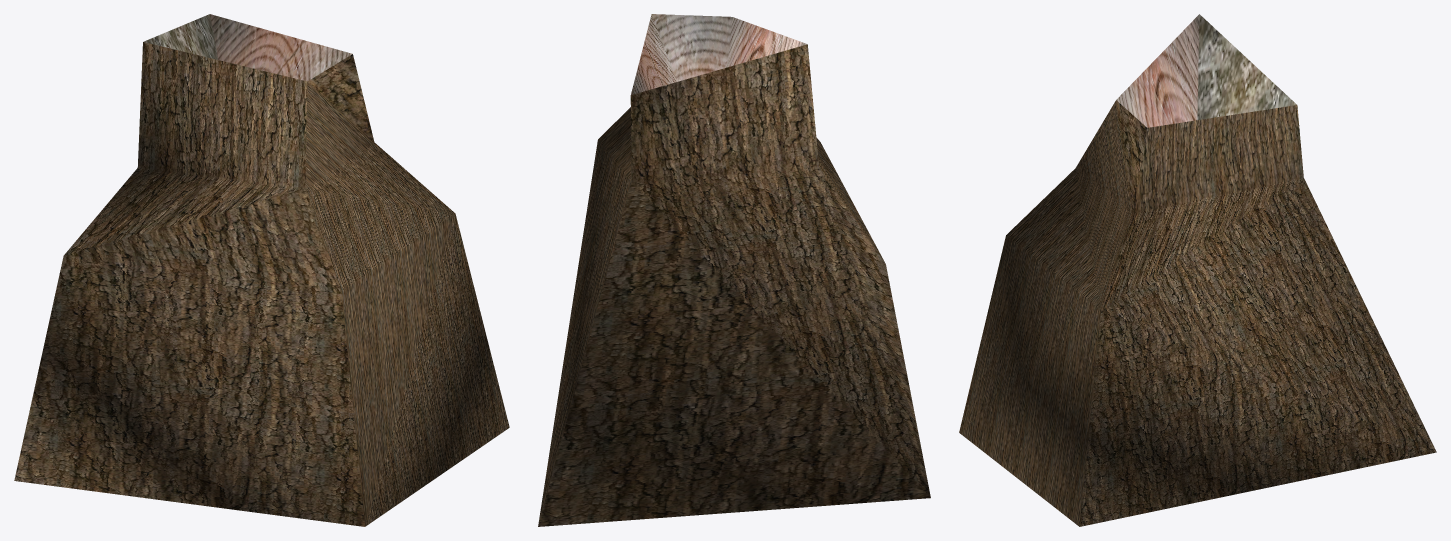
File: decd_oakstump_sm_l3.fbx
The picture shows the model from 3 angles, left to right: view 1: azimuth 30°, elevation 25°; view 2: azimuth 150°, elevation 25°; view 3: azimuth 270°, elevation 25°; orthographic projection. The views are drawn at different scales.
Visible parts, largest first — view 1: mesh_node; view 2: mesh_node; view 3: mesh_node.
Part boxes in pixels (bbox=[...]): mesh_node: bbox=[14, 14, 509, 526]; mesh_node: bbox=[538, 14, 930, 526]; mesh_node: bbox=[959, 14, 1436, 526].
Bounding box in the file's own units: 2.57 × 2.37 × 2.71.
